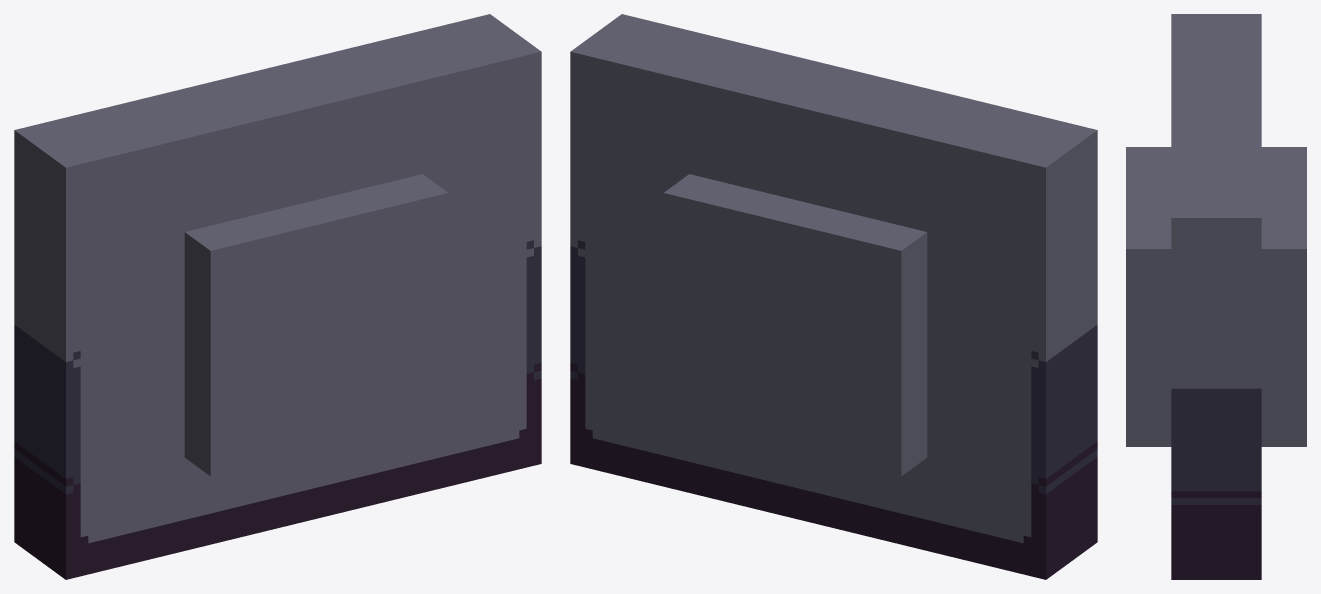
The model's file is pc_arka.fbx.
The picture shows the model from 3 angles, left to right: view 1: azimuth 30°, elevation 25°; view 2: azimuth 150°, elevation 25°; view 3: azimuth 270°, elevation 25°; orthographic projection. The views are drawn at different scales.
Visible parts, largest first — view 1: generated; view 2: generated; view 3: generated.
Boxes of the visible parts, x1=… form: generated: x1=14, y1=14, x2=541, y2=579; generated: x1=570, y1=14, x2=1097, y2=579; generated: x1=1126, y1=14, x2=1306, y2=579.
Bounding box in the file's own units: 640 × 530 × 240.
